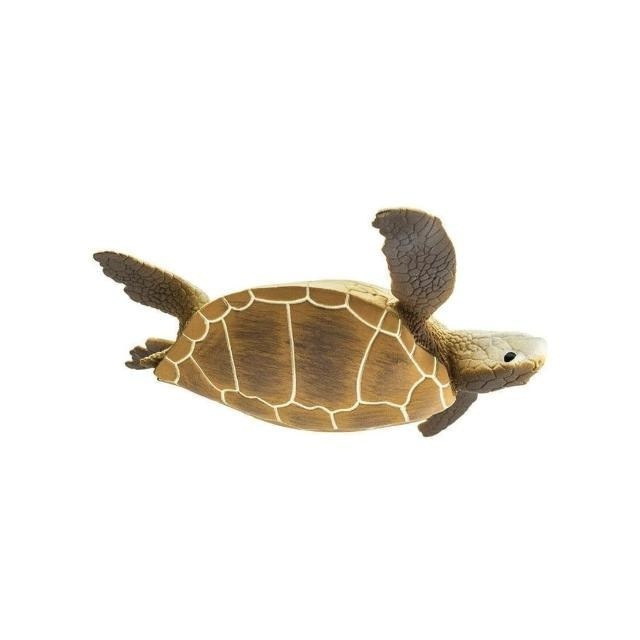turtle: (91, 206, 550, 440)
